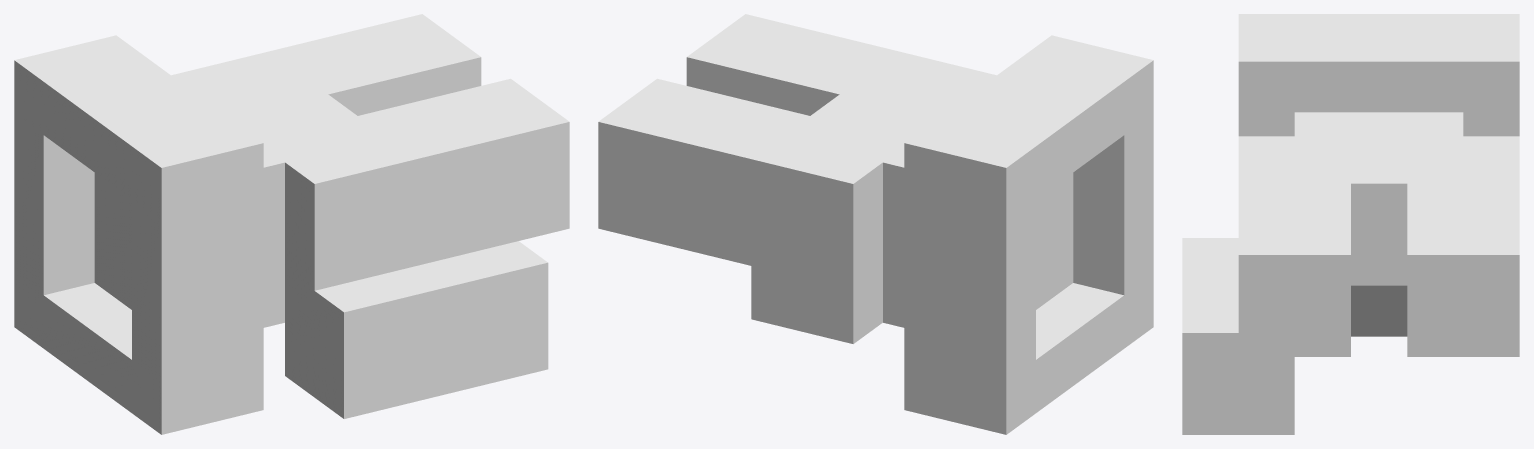
The model's file is Hand_Left_1.fbx.
3 views of the same model, side by side, from view 1: azimuth 30°, elevation 25°; view 2: azimuth 150°, elevation 25°; view 3: azimuth 270°, elevation 25° (orthographic). The views are drawn at different scales.
Parts seen in each view (by area): view 1: Hand_Left_1; view 2: Hand_Left_1; view 3: Hand_Left_1.
Boxes of the visible parts, <box> form: Hand_Left_1: <box>14,14,569,434</box>; Hand_Left_1: <box>598,14,1153,434</box>; Hand_Left_1: <box>1182,14,1519,434</box>.
Bounding box in the file's own units: 8 × 5 × 6.
1 material, 1 textured.
